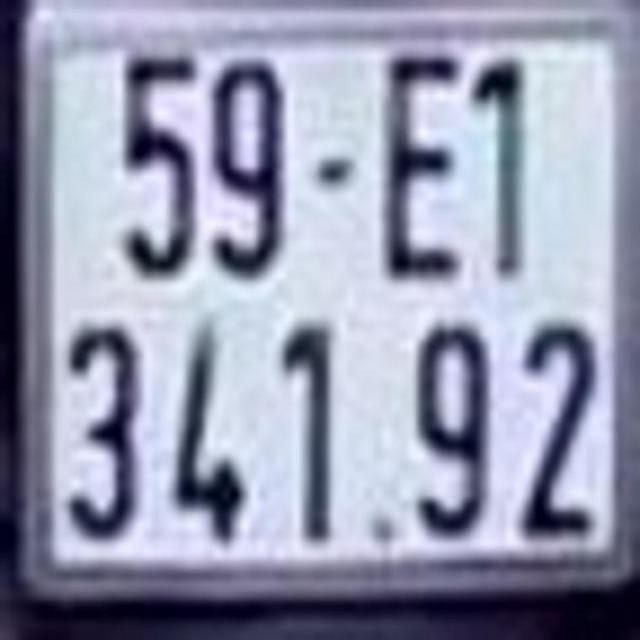1: (281, 319, 339, 539), (474, 53, 528, 274)
2: (520, 315, 597, 536)
3: (66, 322, 139, 536)
4: (170, 324, 258, 548)
5: (121, 56, 199, 282)
9: (210, 55, 288, 278), (415, 319, 492, 544)
E: (385, 57, 471, 281)
